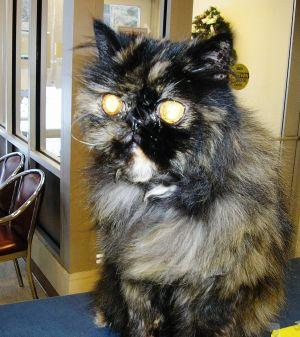persian: (65, 9, 248, 199)
